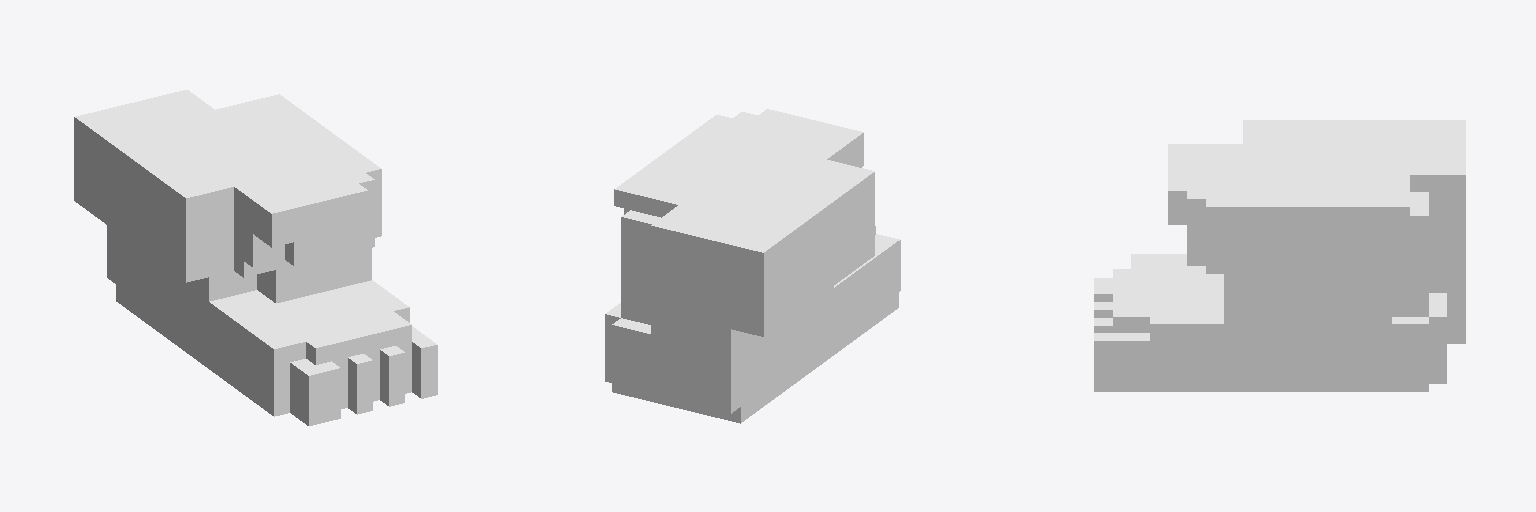
The model's file is DragonLegLeft.obj.
The picture shows the model from 3 angles: view 1: azimuth 30°, elevation 25°; view 2: azimuth 150°, elevation 25°; view 3: azimuth 270°, elevation 25°; orthographic projection.
Visible parts, largest first — view 1: DragonLegLeft; view 2: DragonLegLeft; view 3: DragonLegLeft.
Boxes of the visible parts, x1,y1,x2,y2 form: DragonLegLeft: [74, 90, 437, 425]; DragonLegLeft: [605, 109, 900, 423]; DragonLegLeft: [1094, 120, 1465, 391].
Size of the model in its own units: 11 by 11 by 20.